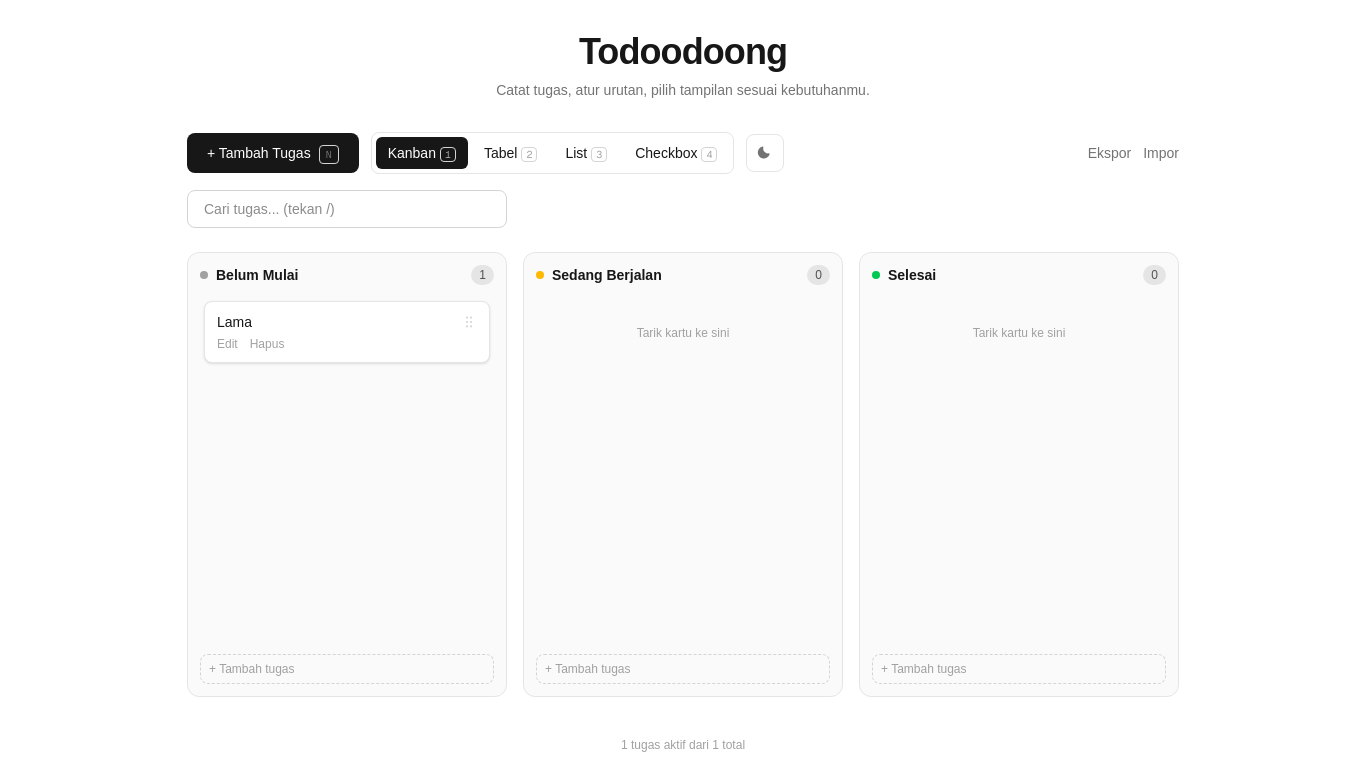
Test: TodoApp alur inti › mengedit tugas lewat tombol edit
Click the button with aria-label "Edit tugas" at (227, 344), box [217,336,238,352]
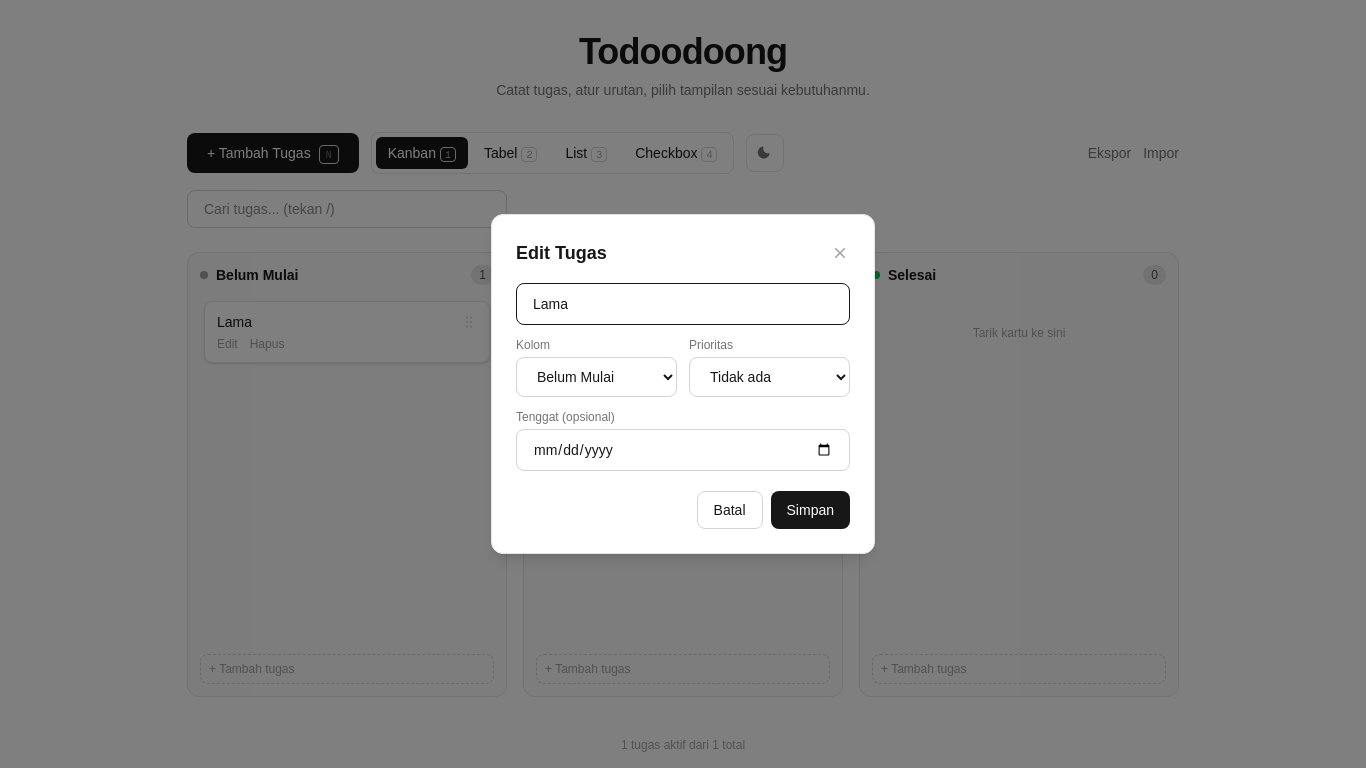
Replace the text in the field showing "Lama" with "Baru" at (683, 304), box [516,283,850,325]
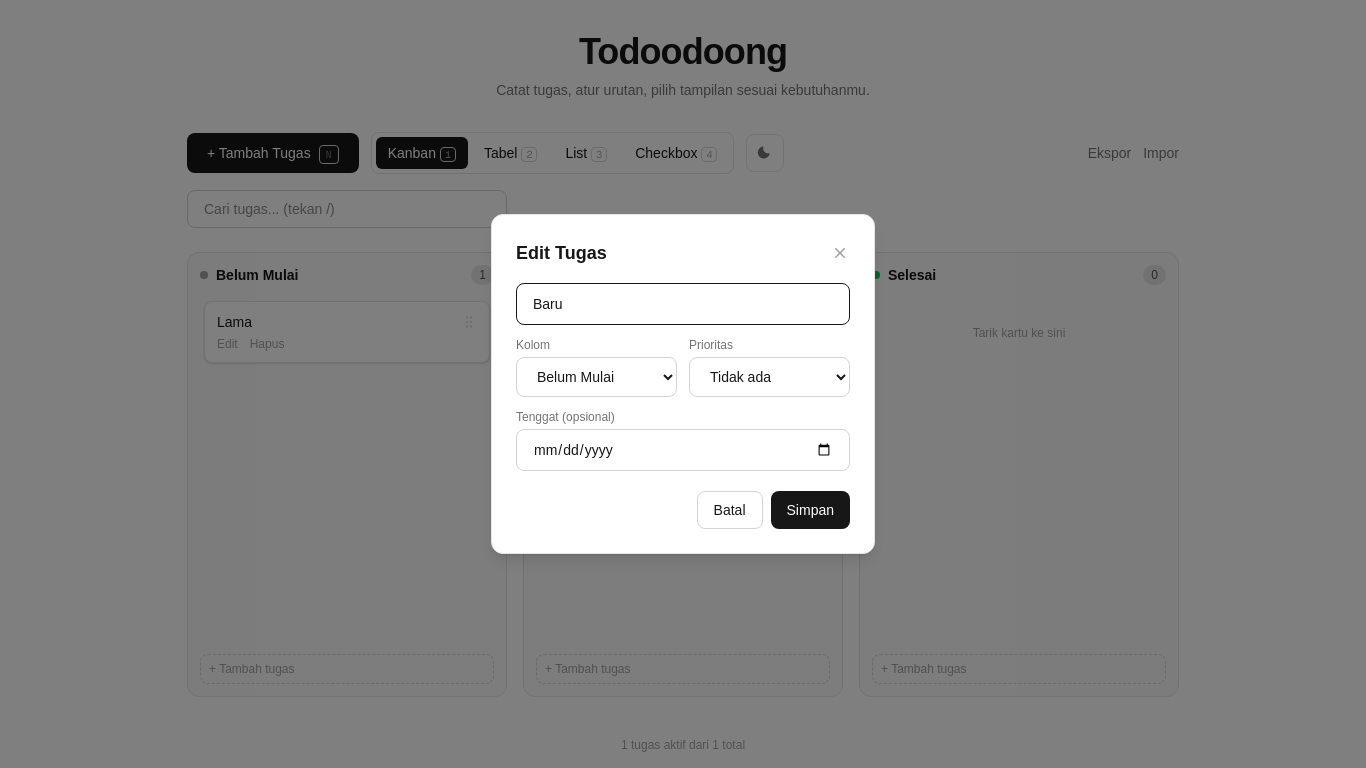
Click the button "Simpan" at (810, 510), box [770,491,850,529]
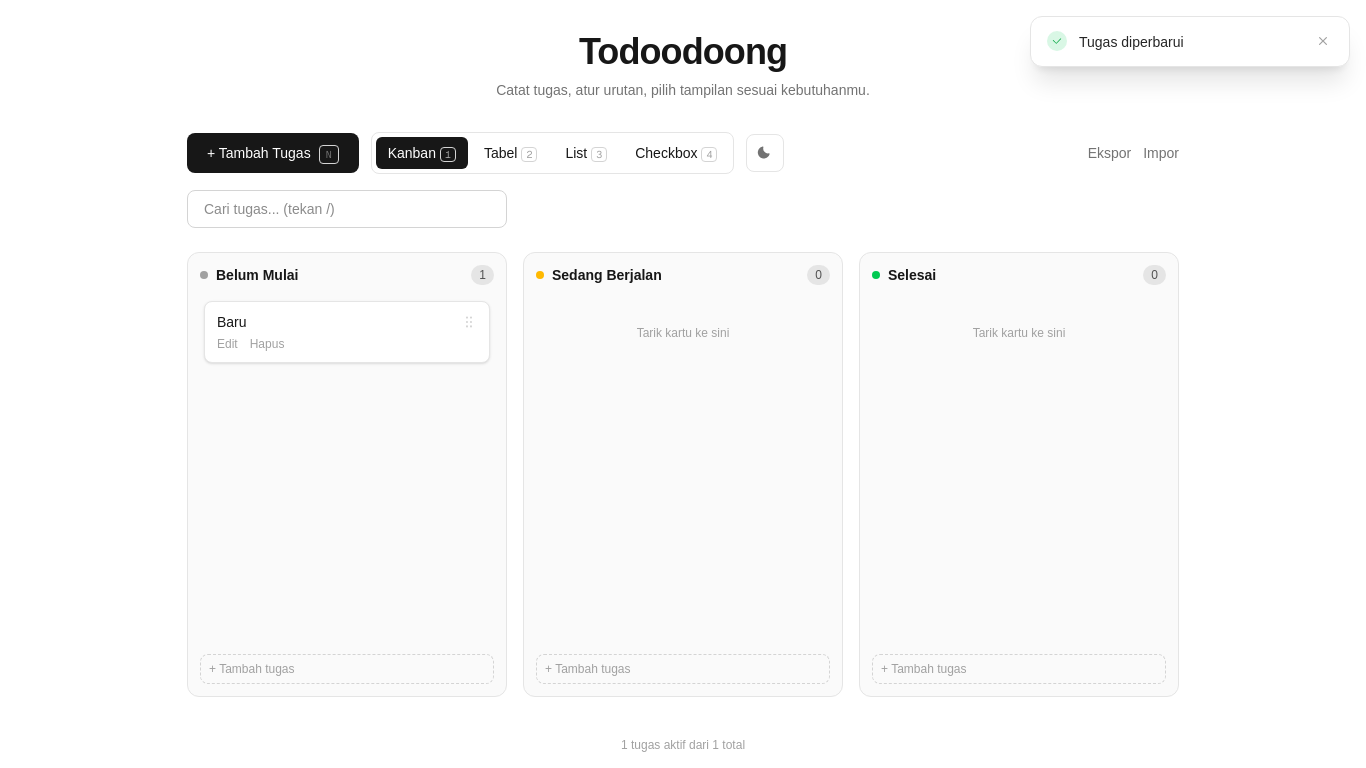
Result: the text "Tugas diperbarui" is shown at [1079,34,1184,50]
Result: the text "Baru" is shown at [217,314,247,330]
